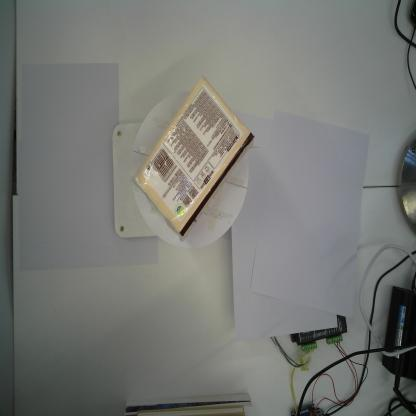Tissue: (135, 76, 254, 236)
